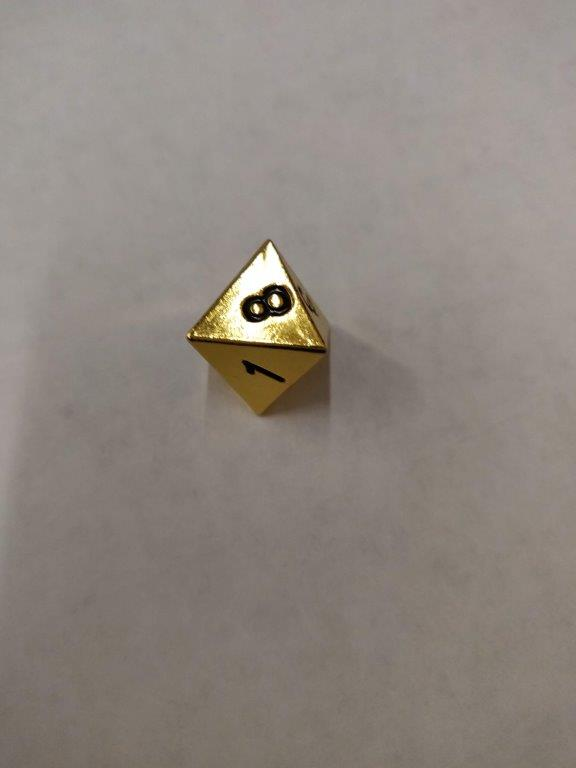d8-8: (185, 240, 332, 416)
